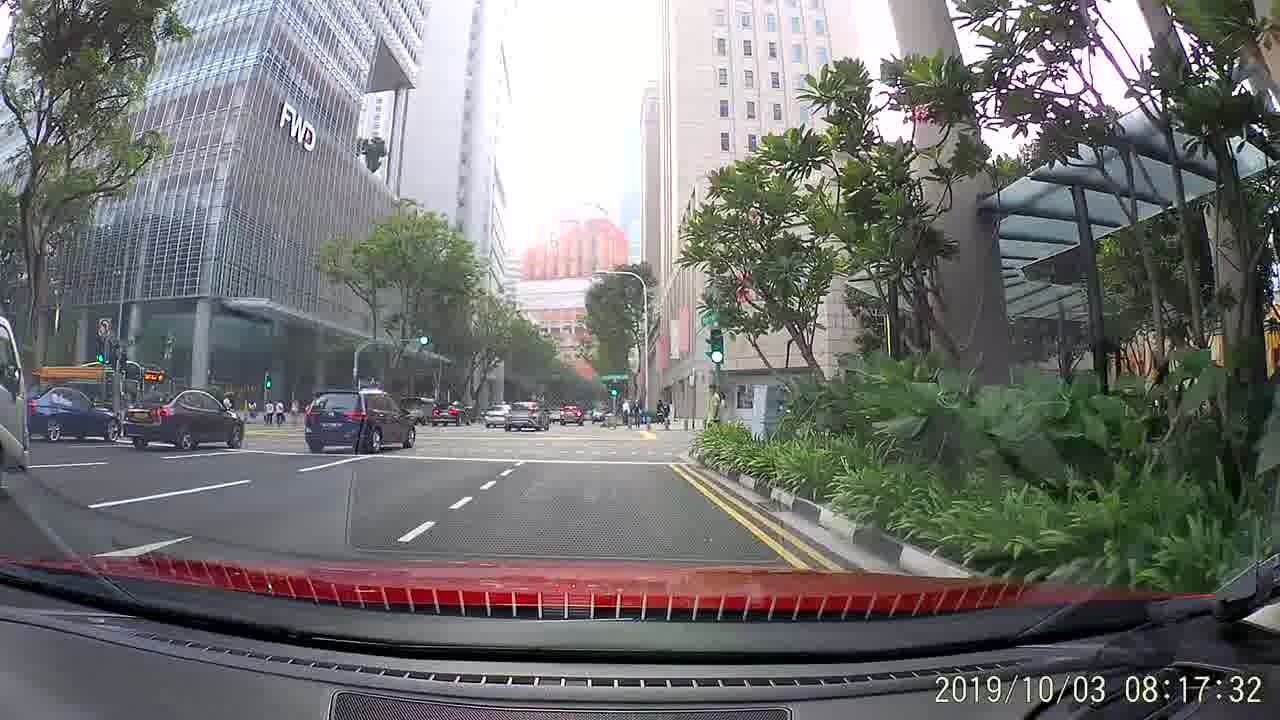car: (296, 386, 421, 451), (124, 392, 247, 453), (20, 380, 124, 446), (501, 397, 549, 433), (430, 402, 472, 429), (482, 404, 511, 431), (555, 403, 587, 427)
